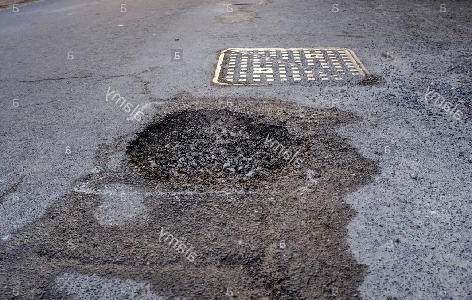pothole: (125, 105, 315, 188)
